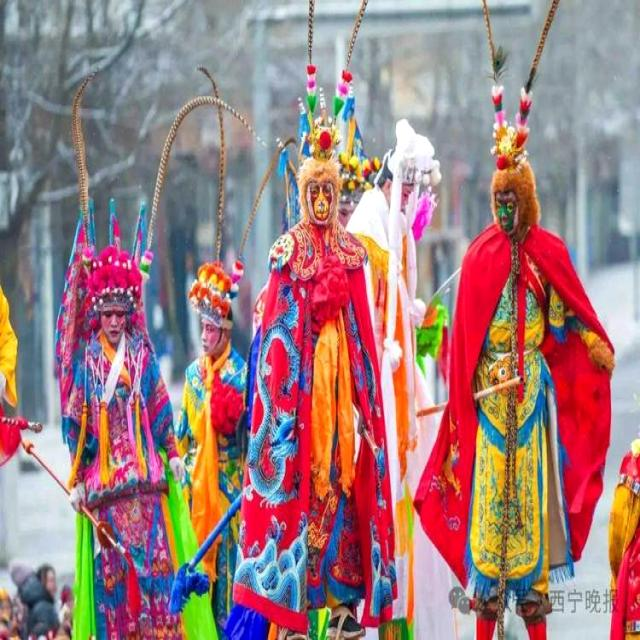Reeves-s Pheasant: (148, 68, 253, 257), (241, 160, 276, 253), (526, 0, 559, 90), (73, 76, 94, 210), (347, 0, 368, 60), (308, 0, 313, 51)
